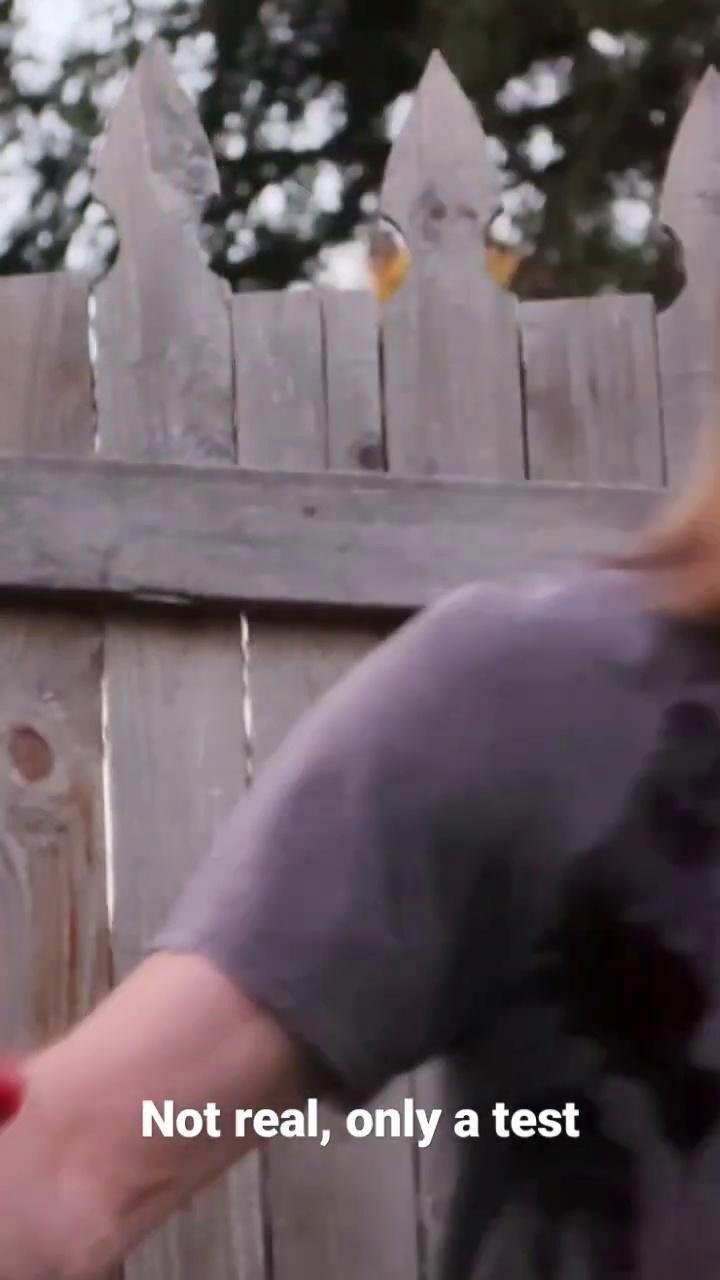Fire: (101, 612, 244, 980)
